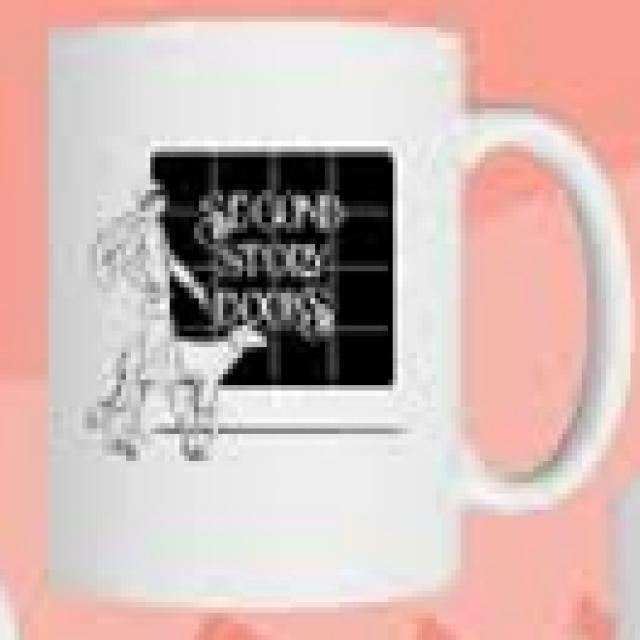taza: (42, 22, 634, 618)
